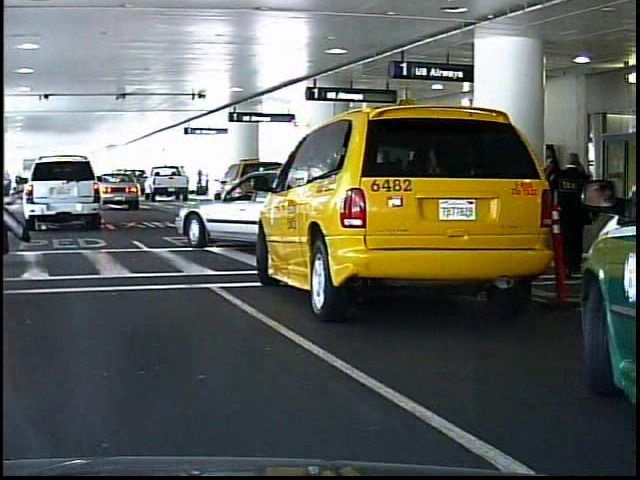person: (549, 148, 596, 275), (534, 143, 562, 238), (201, 168, 209, 197)
